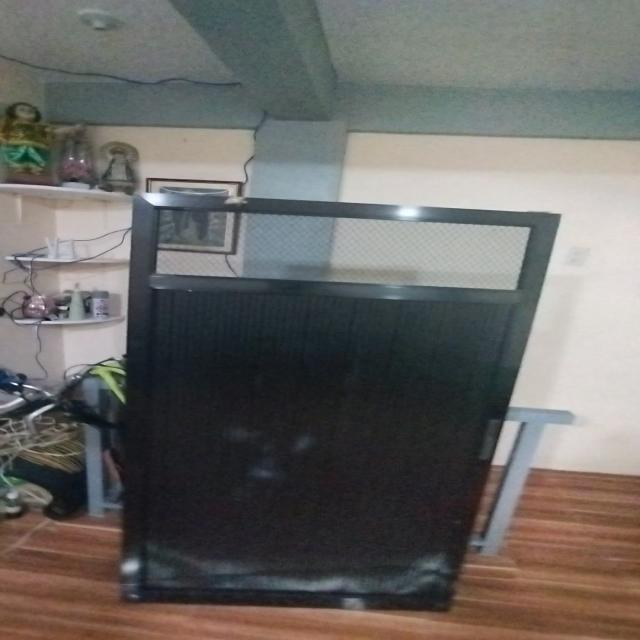door: (128, 190, 523, 612)
